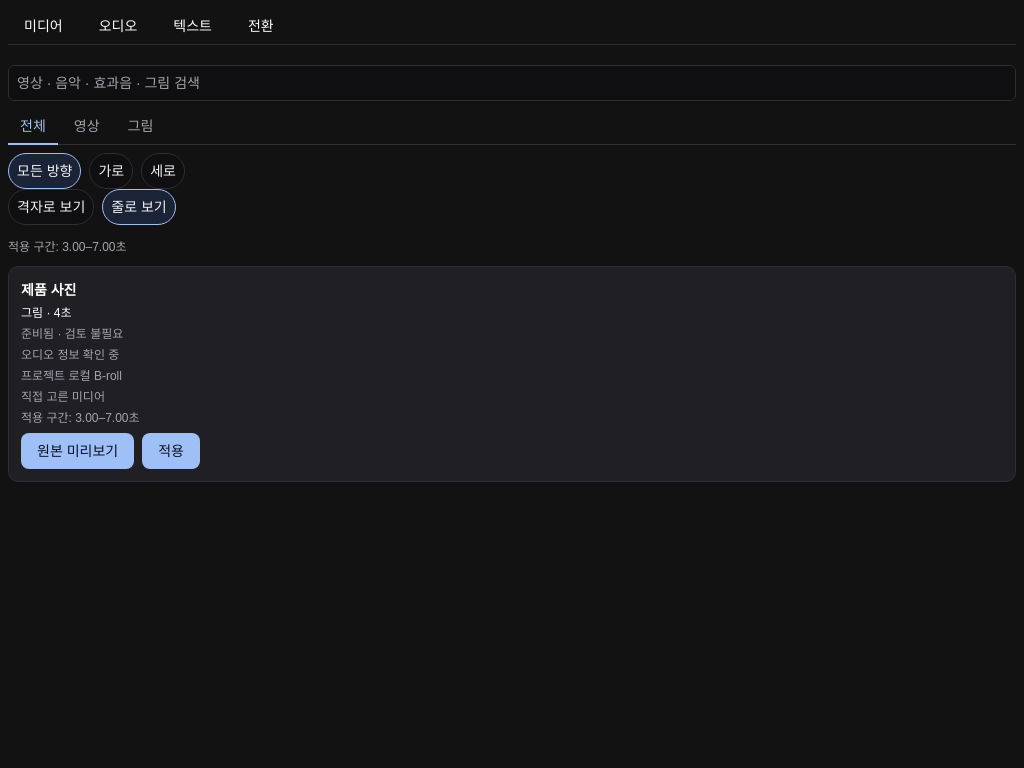
EditorAssetBrowser › lays sound assets out as rows and keeps picture assets as cards
Click the tab "오디오" at x=118, y=26, box 83,8 -> 153,44
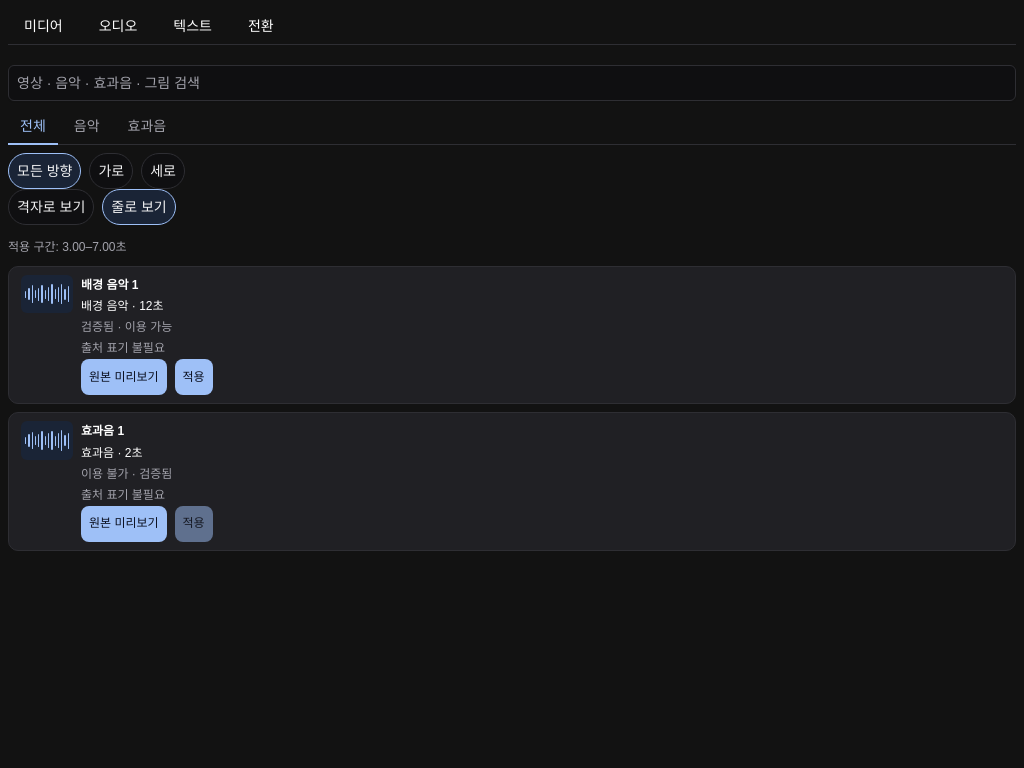
expect the button with aria-label "배경 음악 1 적용" is shown: met, box 175,359 -> 213,395
